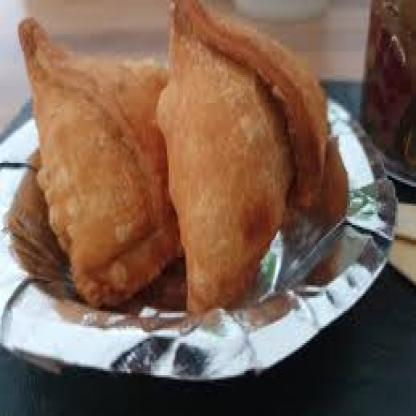samosa: (157, 0, 348, 314), (17, 18, 183, 308)
